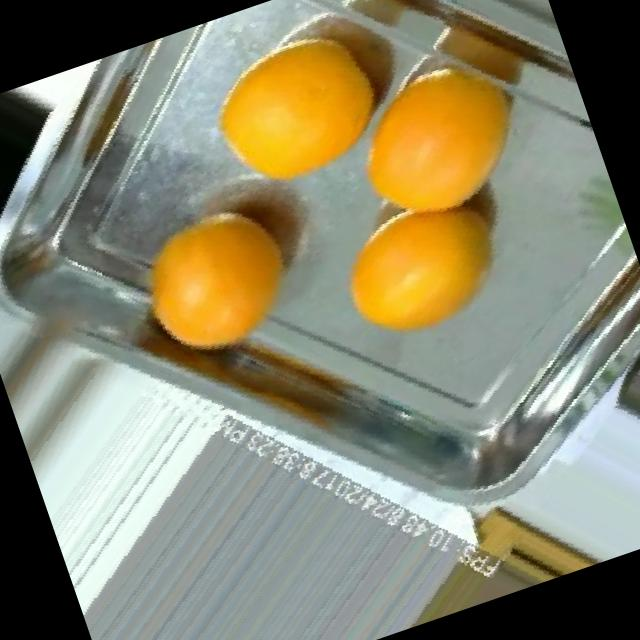Fruit: (94, 146, 370, 396), (300, 150, 566, 380), (164, 0, 426, 225), (0, 73, 107, 277)
